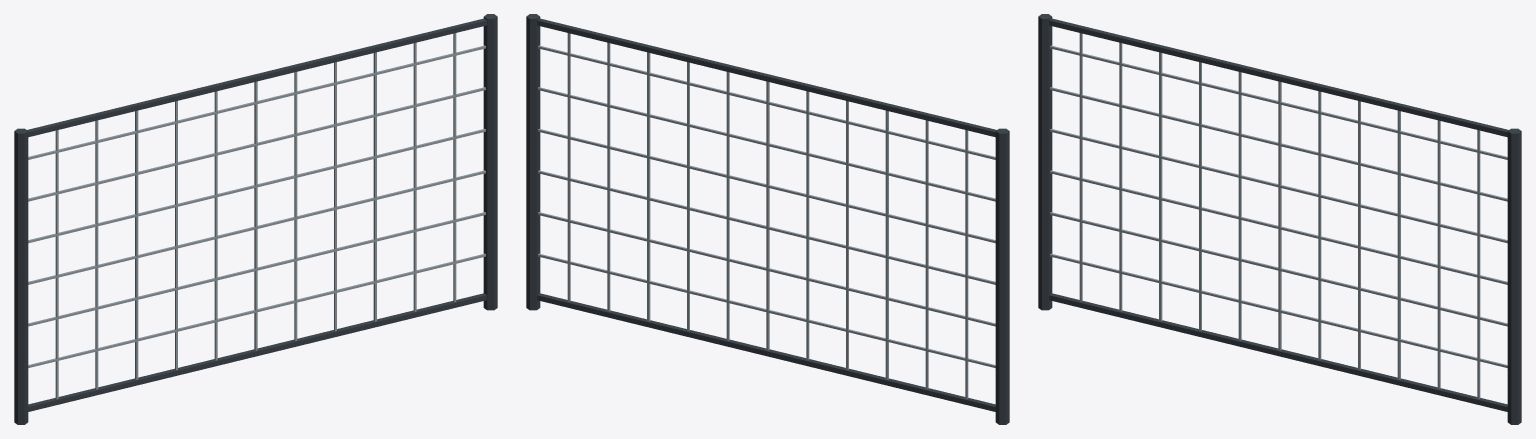
Rendered from prop_chainlink_panel.fbx.
3 views of the same model, side by side, from view 1: azimuth 30°, elevation 25°; view 2: azimuth 150°, elevation 25°; view 3: azimuth 330°, elevation 25° (orthographic).
Visible parts, largest first — view 1: prop_chainlink_panel; view 2: prop_chainlink_panel; view 3: prop_chainlink_panel.
Part boxes in pixels (x1,y1,x2,y2): prop_chainlink_panel: [14, 14, 497, 424]; prop_chainlink_panel: [526, 14, 1009, 424]; prop_chainlink_panel: [1038, 14, 1521, 424].
Size of the model in its own units: 1206 by 700 by 30.
